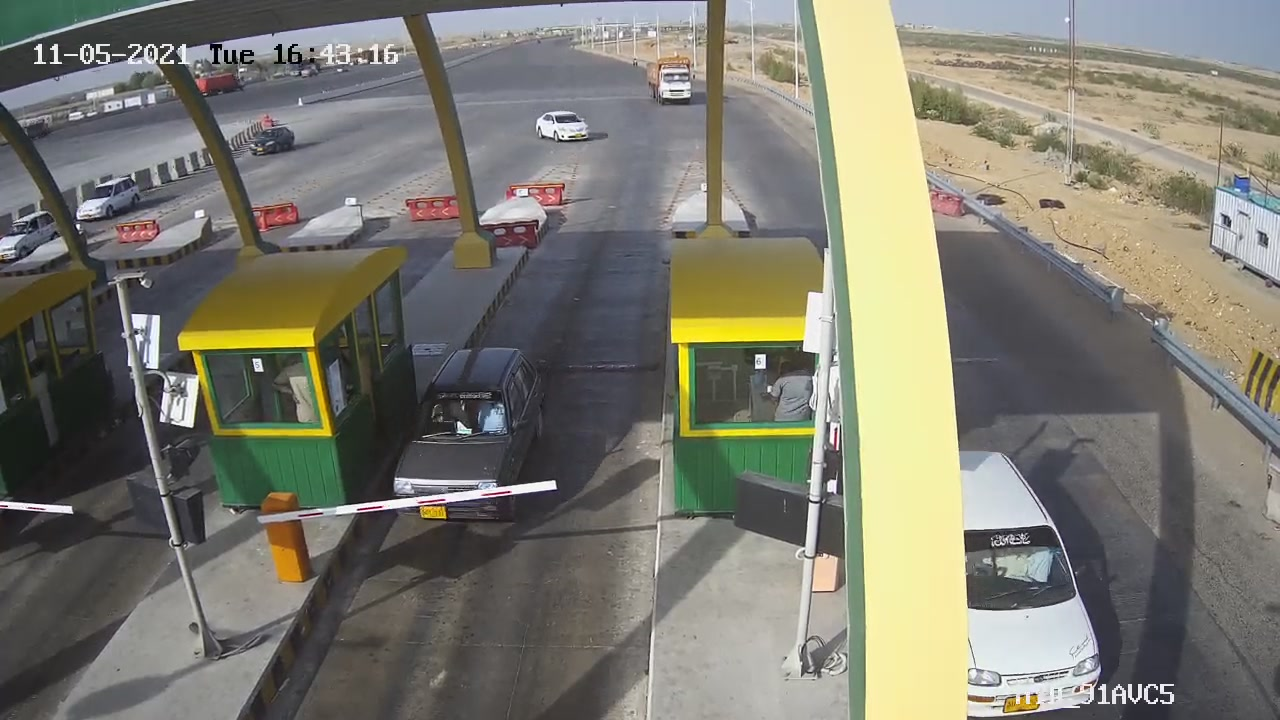F1: (368, 329, 566, 541)
